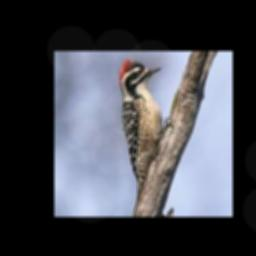Woodpecker: (117, 59, 173, 200)
